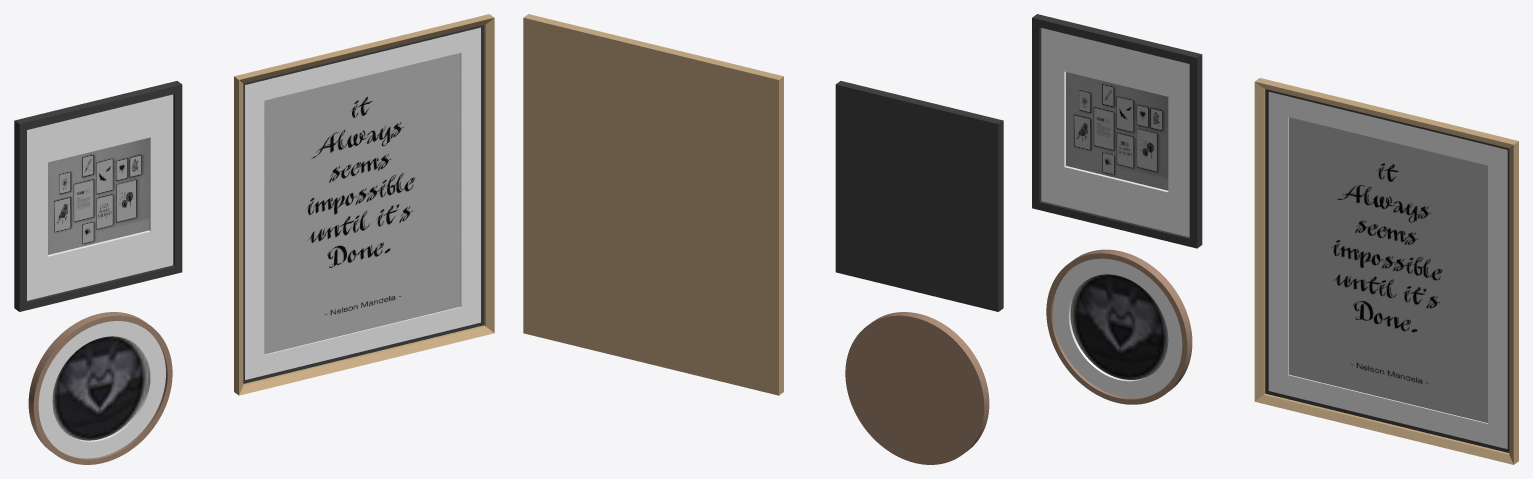
File: pic2.glb
3 renders of one model, left to right at view 1: azimuth 30°, elevation 25°; view 2: azimuth 150°, elevation 25°; view 3: azimuth 330°, elevation 25°, orthographic.
Parts seen in each view (by area): view 1: Obj3d66-1023022-48-968, Obj3d66-1023022-47-409, Obj3d66-1023022-49-920; view 2: Obj3d66-1023022-48-968, Obj3d66-1023022-47-409, Obj3d66-1023022-49-920; view 3: Obj3d66-1023022-48-968, Obj3d66-1023022-47-409, Obj3d66-1023022-49-920.
Part boxes in pixels (x1,y1,x2,y2): Obj3d66-1023022-48-968: (234,14,494,395); Obj3d66-1023022-47-409: (14,81,182,311); Obj3d66-1023022-49-920: (28,312,172,464); Obj3d66-1023022-48-968: (523,14,783,395); Obj3d66-1023022-47-409: (835,81,1003,311); Obj3d66-1023022-49-920: (845,312,989,464); Obj3d66-1023022-48-968: (1254,78,1518,464); Obj3d66-1023022-47-409: (1032,14,1202,248); Obj3d66-1023022-49-920: (1046,249,1192,404).
Size of the model in its own units: 1.16 by 0.8401 by 0.0216.
Materials: 7 (3 with a texture image).
